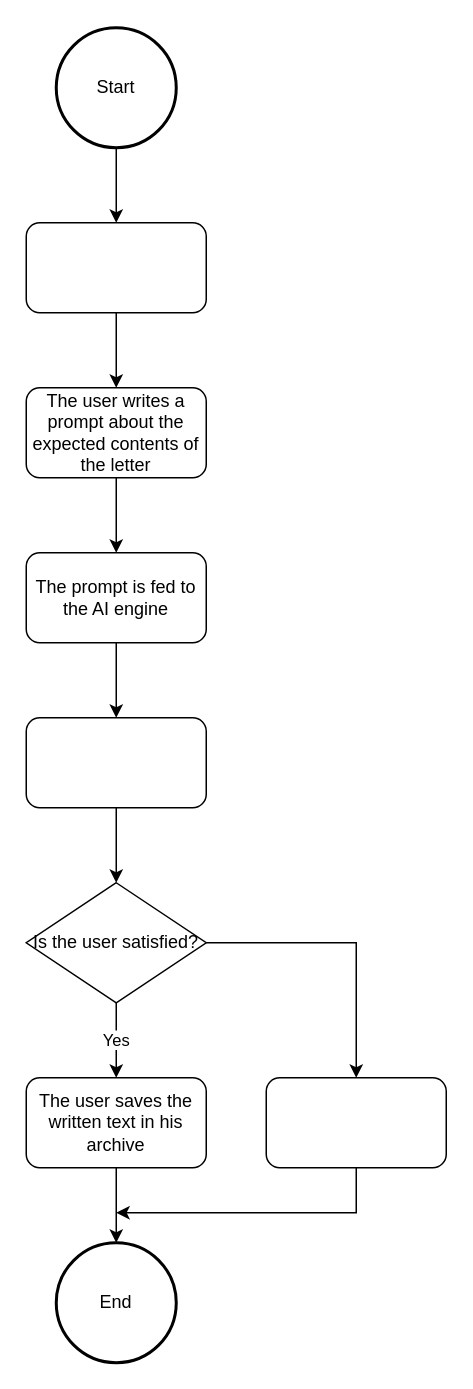
Image size: 473x1389. Some labels were removed from this diagram. Here are the shapes that lost their labels. From the top down, the centre of each, then its label:
At [115,267]: "The user enters the letter generation environment".
At [115,762]: "The generated text is show to the user".
At [355,1122]: "The user is directed to an enhancement and improvement dialog".
